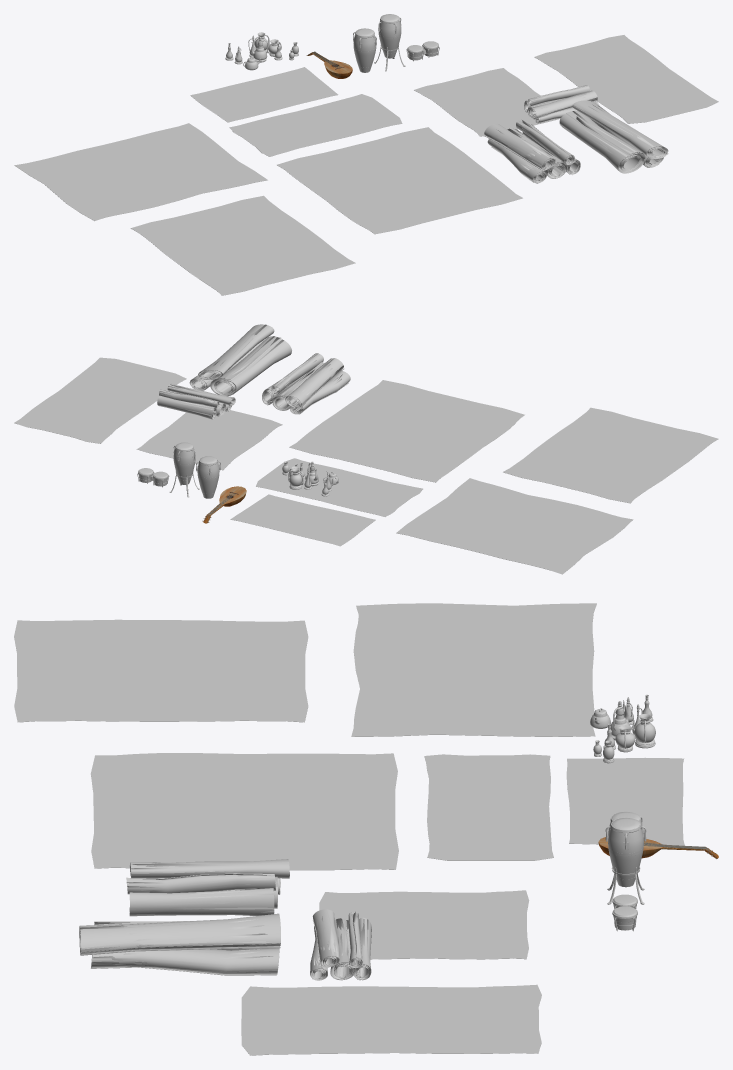
Rendered from Fancy_Misc_A1.fbx.
The picture shows the model from 3 angles, top to bottom: view 1: azimuth 30°, elevation 25°; view 2: azimuth 150°, elevation 25°; view 3: azimuth 270°, elevation 25°; orthographic projection. The views are drawn at different scales.
Visible parts, largest first — view 1: Fancy_Carpet_A5, Fancy_Carpet_A3, Fancy_Carpet_A4, Fancy_Carpet_A7, Fancy_Carpet_A2, Fancy_Carpet_A6, Fancy_Carpet_A1, Rolled_Carpet_C3, Rolled_Carpet_C2, Rolled_Carpet_C3.001, Rolled_Carpet_C2.001, Rolled_Carpet_C1 (+5 smaller); view 2: Fancy_Carpet_A5, Fancy_Carpet_A3, Fancy_Carpet_A4, Fancy_Carpet_A7, Fancy_Carpet_A6, Fancy_Carpet_A2, Fancy_Carpet_A1, Rolled_Carpet_C3, Rolled_Carpet_C2, Rolled_Carpet_C3.001, Rolled_Carpet_C1, Rolled_Carpet_C2.001 (+5 smaller); view 3: Fancy_Carpet_A5, Fancy_Carpet_A3, Fancy_Carpet_A4, Fancy_Carpet_A7, Fancy_Carpet_A2, Fancy_Carpet_A6, Fancy_Carpet_A1, Rolled_Carpet_C3, Rolled_Carpet_C2, Rolled_Carpet_C3.001, Rolled_Carpet_C2.001, Rolled_Carpet_C1 (+3 smaller).
Boxes of the visible parts, box(x1,y1,x2,y2) form: Fancy_Carpet_A5: box(277, 127, 522, 234); Fancy_Carpet_A3: box(14, 123, 267, 220); Fancy_Carpet_A4: box(130, 195, 355, 295); Fancy_Carpet_A7: box(534, 35, 718, 123); Fancy_Carpet_A2: box(229, 94, 402, 156); Fancy_Carpet_A6: box(414, 68, 559, 136); Fancy_Carpet_A1: box(190, 67, 338, 122); Rolled_Carpet_C3: box(559, 100, 668, 173); Rolled_Carpet_C2: box(484, 120, 580, 183); Rolled_Carpet_C3.001: box(560, 103, 667, 173); Rolled_Carpet_C2.001: box(484, 120, 580, 183); Rolled_Carpet_C1: box(524, 85, 599, 123); Fancy_Carpet_A5: box(289, 380, 524, 482); Fancy_Carpet_A3: box(396, 478, 633, 574); Fancy_Carpet_A4: box(503, 407, 718, 503); Fancy_Carpet_A7: box(14, 357, 186, 443); Fancy_Carpet_A6: box(136, 410, 282, 470); Fancy_Carpet_A2: box(256, 458, 422, 516); Fancy_Carpet_A1: box(230, 494, 375, 546); Rolled_Carpet_C3: box(189, 324, 291, 396); Rolled_Carpet_C2: box(262, 353, 350, 414); Rolled_Carpet_C3.001: box(190, 324, 291, 395); Rolled_Carpet_C1: box(157, 383, 235, 419); Rolled_Carpet_C2.001: box(262, 354, 350, 413); Fancy_Carpet_A5: box(90, 753, 398, 870); Fancy_Carpet_A3: box(351, 603, 596, 736); Fancy_Carpet_A4: box(14, 619, 308, 722); Fancy_Carpet_A7: box(241, 984, 541, 1055); Fancy_Carpet_A2: box(424, 754, 553, 860); Fancy_Carpet_A6: box(319, 890, 529, 959); Fancy_Carpet_A1: box(566, 757, 684, 845); Rolled_Carpet_C3: box(79, 914, 280, 975); Rolled_Carpet_C2: box(126, 859, 289, 916); Rolled_Carpet_C3.001: box(79, 913, 280, 974); Rolled_Carpet_C2.001: box(126, 860, 289, 915); Rolled_Carpet_C1: box(310, 909, 371, 980).
Bounding box in the file's own units: 1622 × 162 × 1068.
